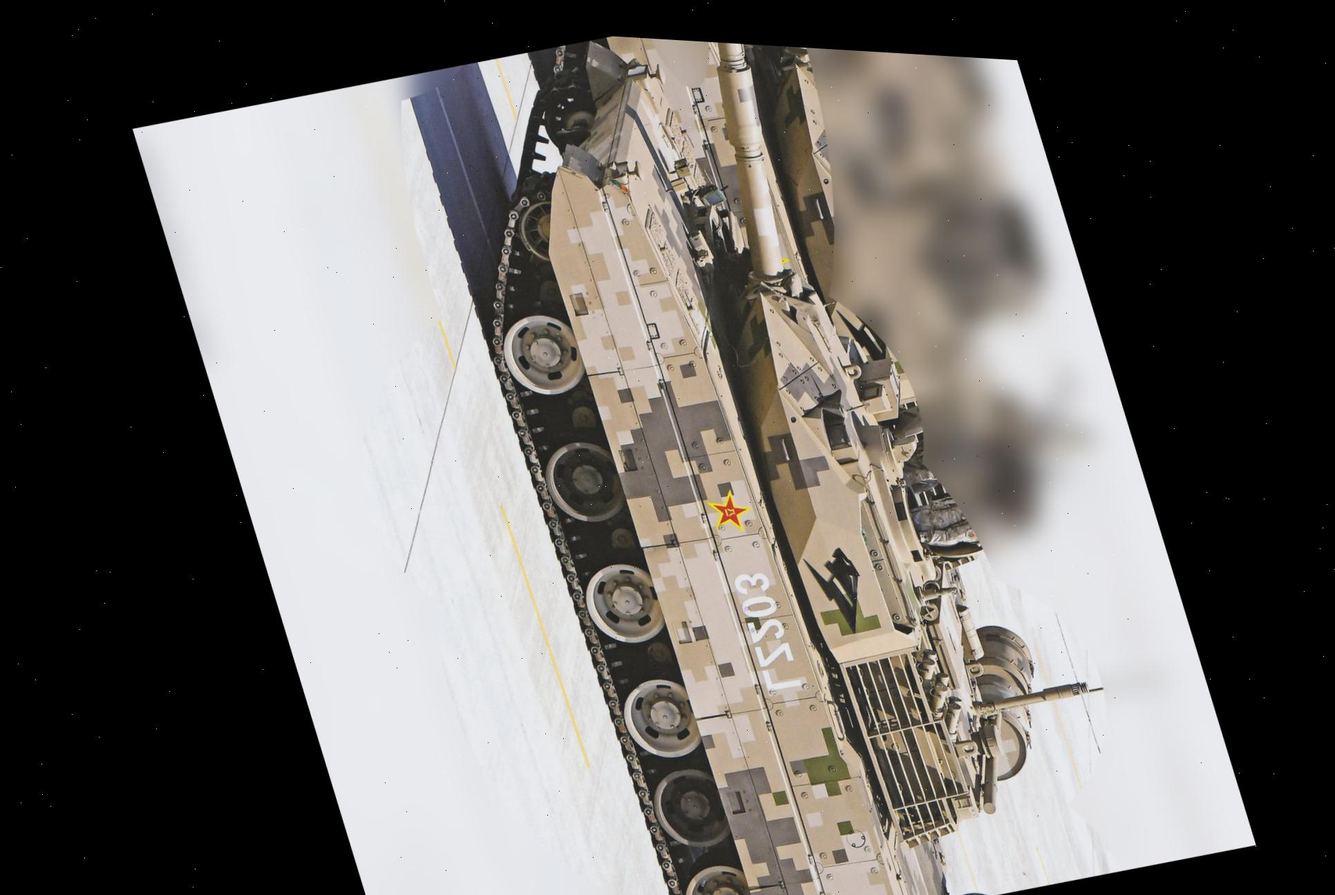tank: (408, 24, 1168, 895)
